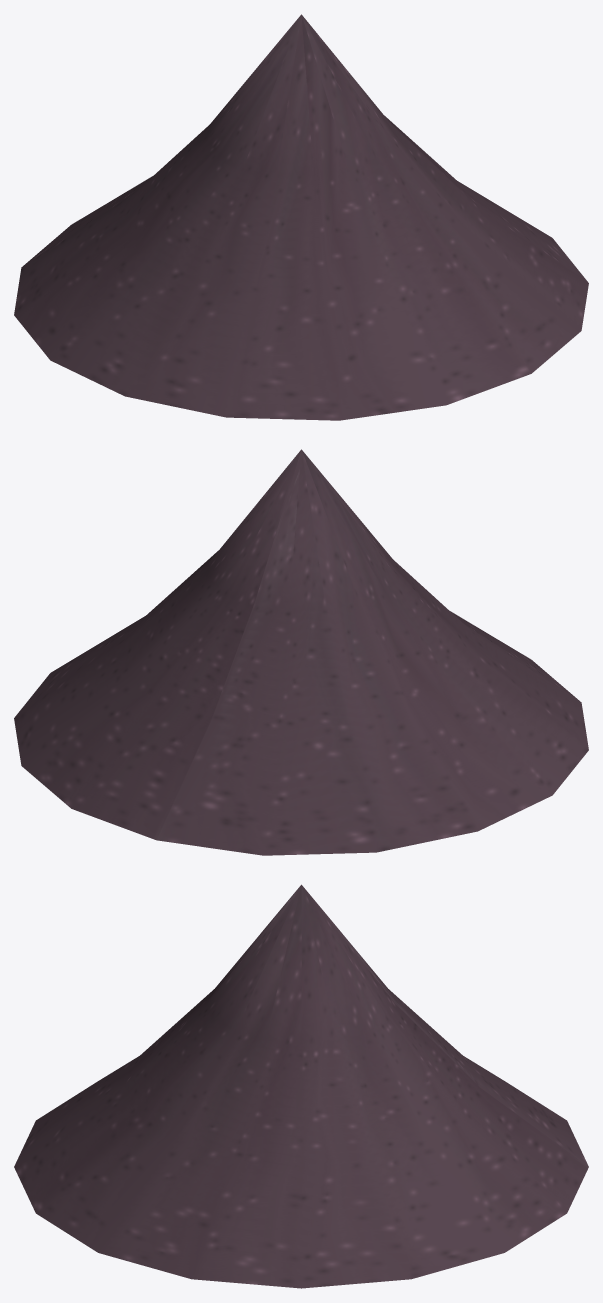
Rendered from DirtModel.fbx.
3 views of the same model, one above another, from view 1: azimuth 30°, elevation 25°; view 2: azimuth 150°, elevation 25°; view 3: azimuth 270°, elevation 25° (orthographic).
Parts seen in each view (by area): view 1: dirt; view 2: dirt; view 3: dirt.
Part boxes in pixels (left/top/right/bottom): dirt: left=14, top=14, right=588, bottom=420; dirt: left=14, top=449, right=588, bottom=855; dirt: left=14, top=884, right=588, bottom=1288.
Bounding box in the file's own units: 200 × 108 × 200.
